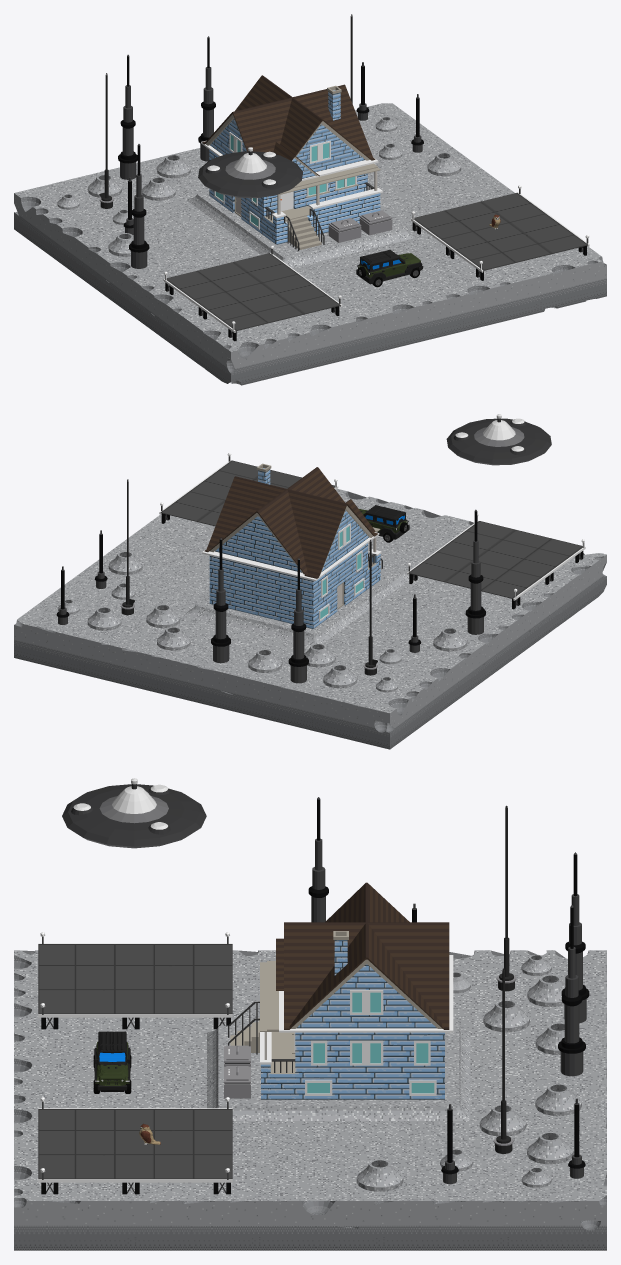
3 renders of one model, top to bottom at view 1: azimuth 30°, elevation 25°; view 2: azimuth 150°, elevation 25°; view 3: azimuth 270°, elevation 25°, orthographic. The views are drawn at different scales.
Parts seen in each view (by area): view 1: Cube.027, Cube.547, Cube.025, Cube.026, Cube.028, OBJRANDOM_UFO, VEHICLES_JEEP, Cylinder.021, Cylinder.020, Cylinder.017, Cube.029, Cube.030 (+5 smaller); view 2: Cube.027, Cube.547, Cube.025, OBJRANDOM_UFO, Cube.028, Cube.026, Cylinder.021, Cylinder.017, Cylinder.020, VEHICLES_JEEP, Cylinder.025, Cylinder.028 (+8 smaller); view 3: Cube.027, Cube.547, Cube.025, Cube.026, Cube.028, OBJRANDOM_UFO, Cylinder.017, VEHICLES_JEEP, Cylinder.020, Cylinder.021, Cylinder.033, Cylinder.031 (+10 smaller).
Part boxes in pixels (bbox=[...]): Cube.027: bbox=[14, 103, 606, 385]; Cube.547: bbox=[201, 75, 382, 251]; Cube.025: bbox=[163, 245, 342, 341]; Cube.026: bbox=[411, 185, 589, 280]; Cube.028: bbox=[187, 191, 414, 267]; OBJRANDOM_UFO: bbox=[198, 147, 302, 198]; VEHICLES_JEEP: bbox=[356, 249, 423, 287]; Cylinder.021: bbox=[129, 144, 149, 268]; Cylinder.020: bbox=[118, 54, 137, 179]; Cylinder.017: bbox=[198, 36, 215, 161]; Cube.029: bbox=[328, 218, 361, 242]; Cube.030: bbox=[359, 210, 392, 235]; Cube.027: bbox=[14, 489, 606, 749]; Cube.547: bbox=[202, 463, 382, 628]; Cube.025: bbox=[407, 513, 585, 609]; OBJRANDOM_UFO: bbox=[446, 414, 551, 465]; Cube.028: bbox=[185, 565, 409, 645]; Cube.026: bbox=[159, 453, 338, 526]; Cylinder.021: bbox=[465, 509, 485, 634]; Cylinder.017: bbox=[211, 538, 230, 663]; Cylinder.020: bbox=[288, 558, 308, 683]; VEHICLES_JEEP: bbox=[359, 505, 409, 542]; Cylinder.025: bbox=[433, 627, 467, 651]; Cylinder.028: bbox=[323, 664, 357, 688]; Cube.027: bbox=[14, 950, 606, 1250]; Cube.547: bbox=[228, 882, 453, 1099]; Cube.025: bbox=[38, 932, 232, 1029]; Cube.026: bbox=[38, 1097, 232, 1194]; Cube.028: bbox=[207, 1025, 470, 1120]; OBJRANDOM_UFO: bbox=[62, 778, 206, 848]; Cylinder.017: bbox=[558, 905, 585, 1076]; VEHICLES_JEEP: bbox=[93, 1031, 131, 1093]; Cylinder.020: bbox=[561, 852, 589, 1023]; Cylinder.021: bbox=[308, 797, 328, 922]; Cylinder.033: bbox=[356, 1159, 403, 1191]; Cylinder.031: bbox=[527, 1132, 573, 1164].
Bounding box in the file's own units: 4000 × 1990 × 4000.
Materials: 33 (6 with a texture image).
